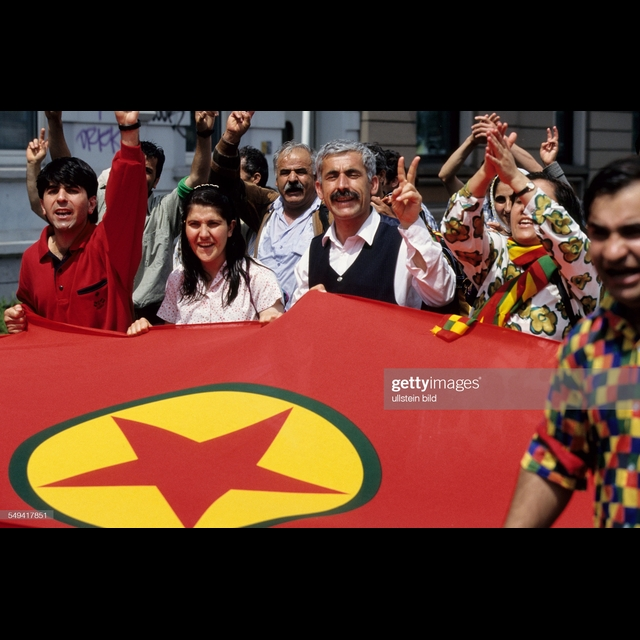PKK: (13, 348, 352, 513)
ZI: (383, 149, 428, 234), (538, 123, 566, 168)
